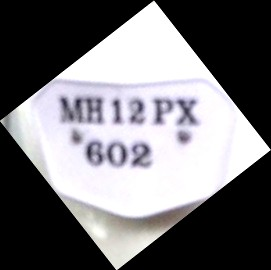character: (58, 94, 84, 126), (175, 96, 201, 127), (105, 140, 128, 168), (84, 95, 104, 126), (152, 97, 174, 124), (84, 139, 104, 167), (131, 142, 152, 168), (128, 97, 146, 125), (110, 98, 122, 124)
